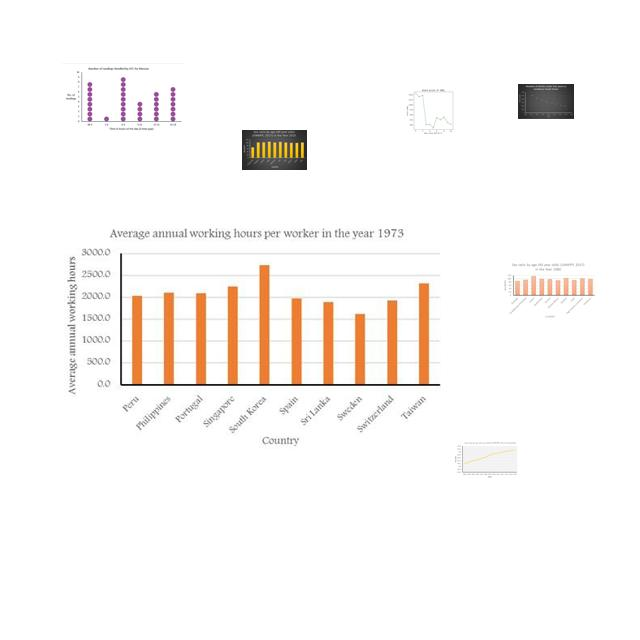Graph: (64, 222, 445, 449), (62, 63, 184, 134), (501, 262, 596, 320), (400, 86, 465, 135), (242, 130, 307, 170), (453, 441, 518, 479), (518, 84, 574, 119)
